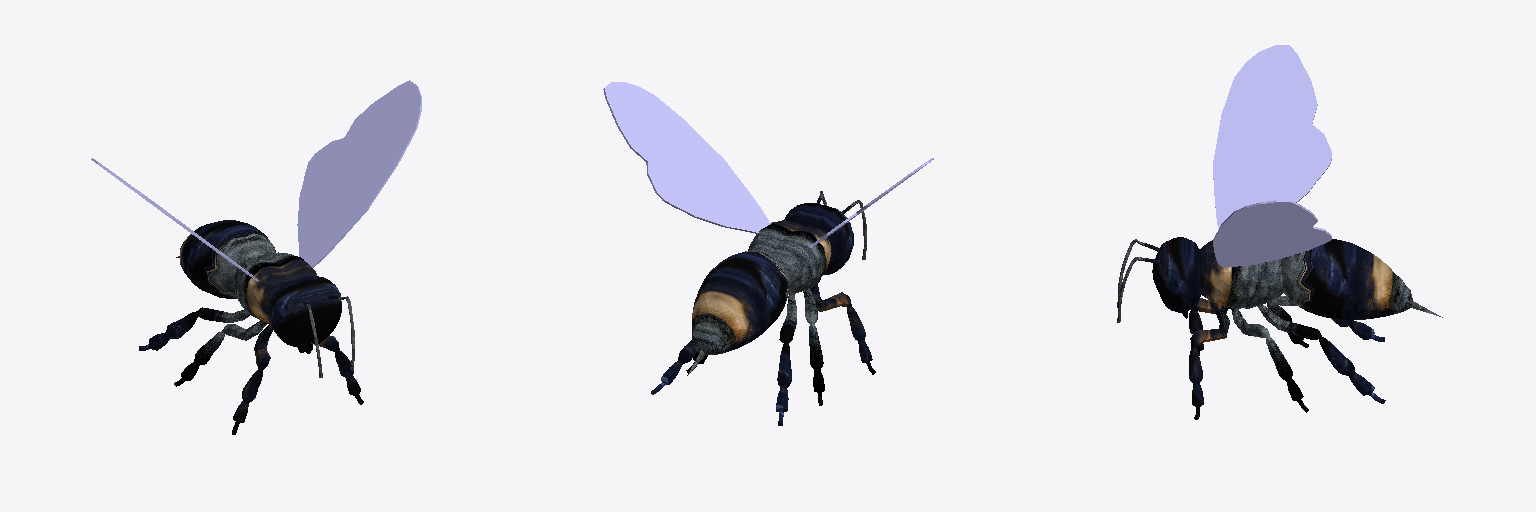
The picture shows the model from 3 angles: view 1: azimuth 30°, elevation 25°; view 2: azimuth 150°, elevation 25°; view 3: azimuth 270°, elevation 25°; orthographic projection.
Parts seen in each view (by area): view 1: bee_body, bee_wing; view 2: bee_body, bee_wing; view 3: bee_body, bee_wing.
Boxes of the visible parts, <box> form: bee_body: <box>139,220,363,434</box>; bee_wing: <box>91,80,421,281</box>; bee_body: <box>651,191,875,425</box>; bee_wing: <box>603,82,933,247</box>; bee_body: <box>1117,237,1442,419</box>; bee_wing: <box>1213,45,1331,266</box>.
Bounding box in the file's own units: 0.015 × 0.0119 × 0.0132.
Materials: 2 (1 with a texture image).